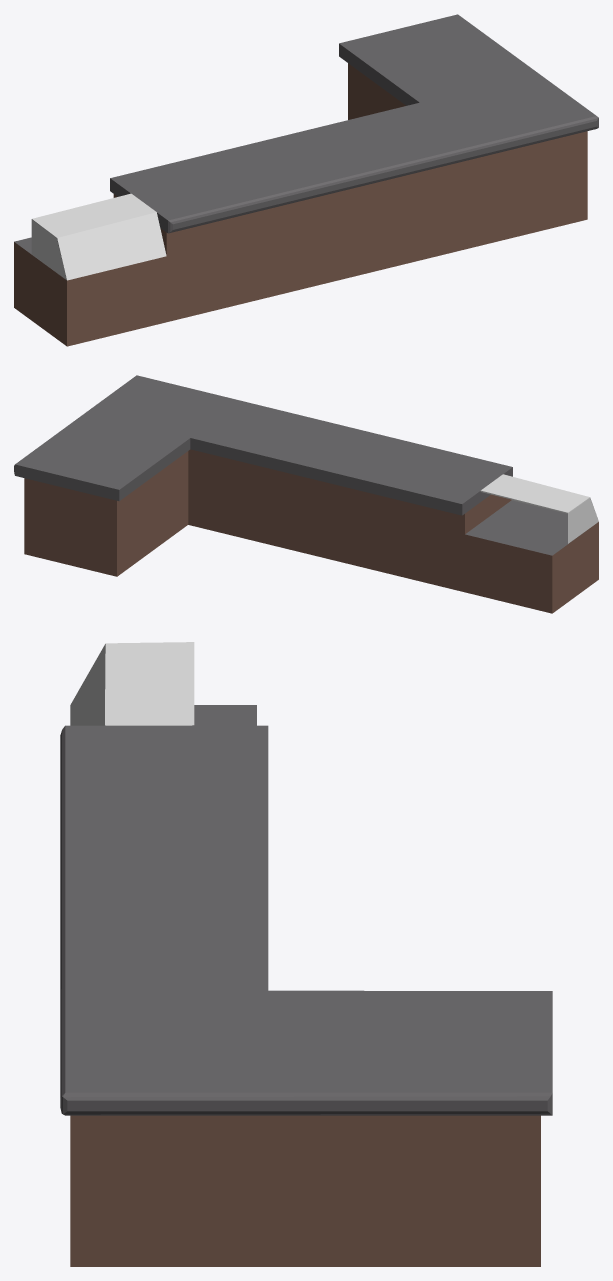
File: Countertop.fbx
The picture shows the model from 3 angles, top to bottom: view 1: azimuth 30°, elevation 25°; view 2: azimuth 150°, elevation 25°; view 3: azimuth 270°, elevation 25°; orthographic projection. The views are drawn at different scales.
Visible parts, largest first — view 1: Cube; view 2: Cube; view 3: Cube.
Boxes of the visible parts, x1,y1,x2,y2 form: Cube: [14, 14, 598, 346]; Cube: [14, 375, 598, 613]; Cube: [60, 642, 552, 1266].
Size of the model in its own units: 697 by 129 by 319.
